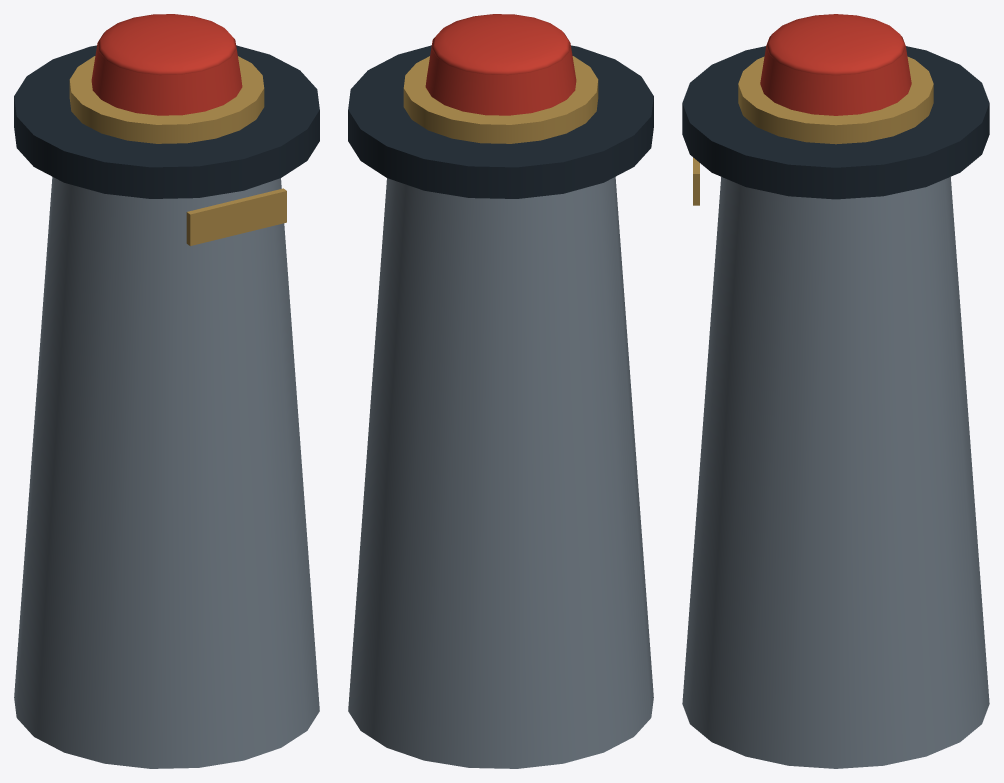
File: push-button-lod0.glb
3 renders of one model, left to right at view 1: azimuth 30°, elevation 25°; view 2: azimuth 150°, elevation 25°; view 3: azimuth 270°, elevation 25°, orthographic.
Parts seen in each view (by area): view 1: pedestal, top-plate, guard-ring, cap-top, cap-dome, label-plate; view 2: pedestal, top-plate, guard-ring, cap-top, cap-dome; view 3: pedestal, top-plate, guard-ring, cap-top, cap-dome.
Part boxes in pixels (x1,y1,x2,y2): pedestal: (14,177,319,768); top-plate: (14,45,319,198); guard-ring: (69,56,264,143); cap-top: (97,14,236,75); cap-dome: (91,43,242,115); label-plate: (186,188,286,245); pedestal: (348,177,653,768); top-plate: (348,45,653,198); guard-ring: (403,56,598,143); cap-top: (431,14,570,75); cap-dome: (425,43,576,115); pedestal: (682,177,989,768); top-plate: (682,46,989,199); guard-ring: (738,56,933,144); cap-top: (766,14,905,75); cap-dome: (760,46,911,115).
Bounding box in the file's own units: 0.44 × 1.06 × 0.44.
